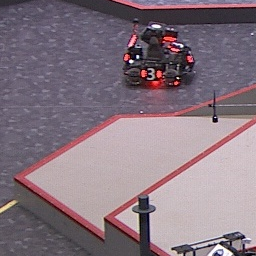Red: (140, 66, 164, 82), (169, 41, 185, 53)
Robot: (122, 18, 195, 89)
